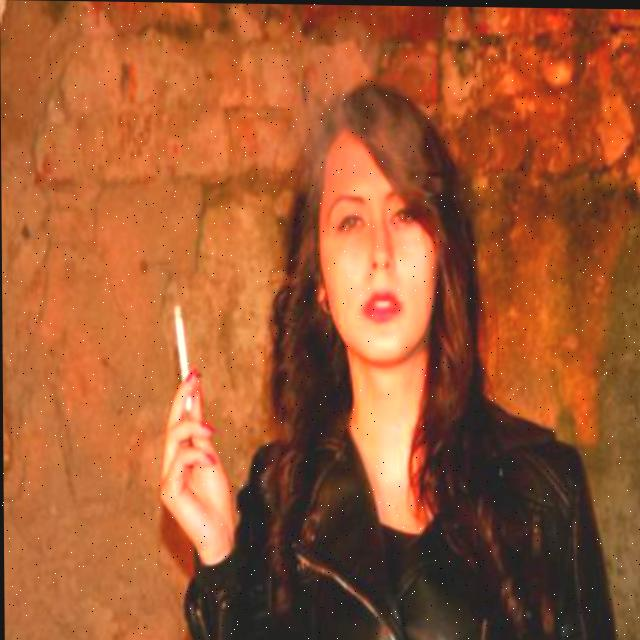cigarette: (172, 303, 194, 415)
